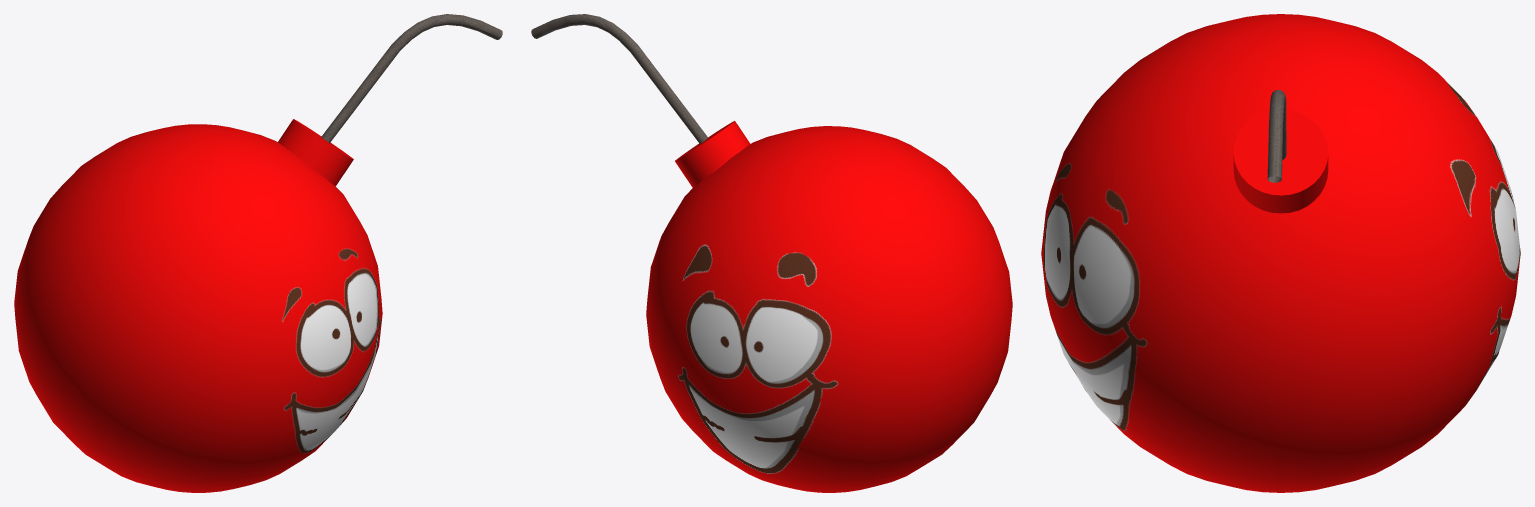
File: cherryBomb.FBX
3 views of the same model, side by side, from view 1: azimuth 30°, elevation 25°; view 2: azimuth 150°, elevation 25°; view 3: azimuth 270°, elevation 25° (orthographic). The views are drawn at different scales.
Visible parts, largest first — view 1: CherryBomb; view 2: CherryBomb; view 3: CherryBomb.
Part boxes in pixels (x1,y1,x2,y2): CherryBomb: [14, 14, 502, 492]; CherryBomb: [531, 14, 1012, 492]; CherryBomb: [1041, 14, 1520, 492].
Bounding box in the file's own units: 288 × 241 × 200.
